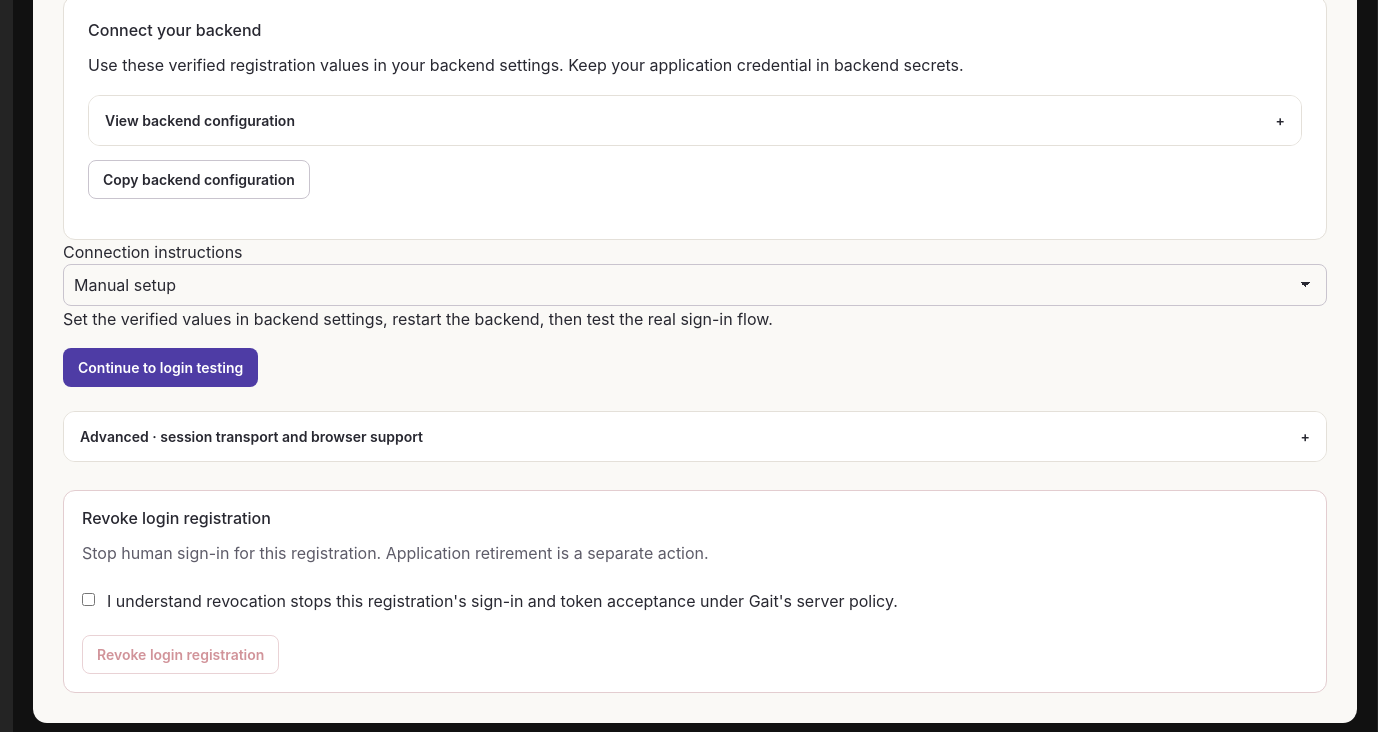
Test: clipboard failure preserves public configuration for manual copying
(page scrolled)
Step 1. Click the button "Advanced · session transport and browser support" → (252,437), box [64, 412, 1326, 461]
(page scrolled)
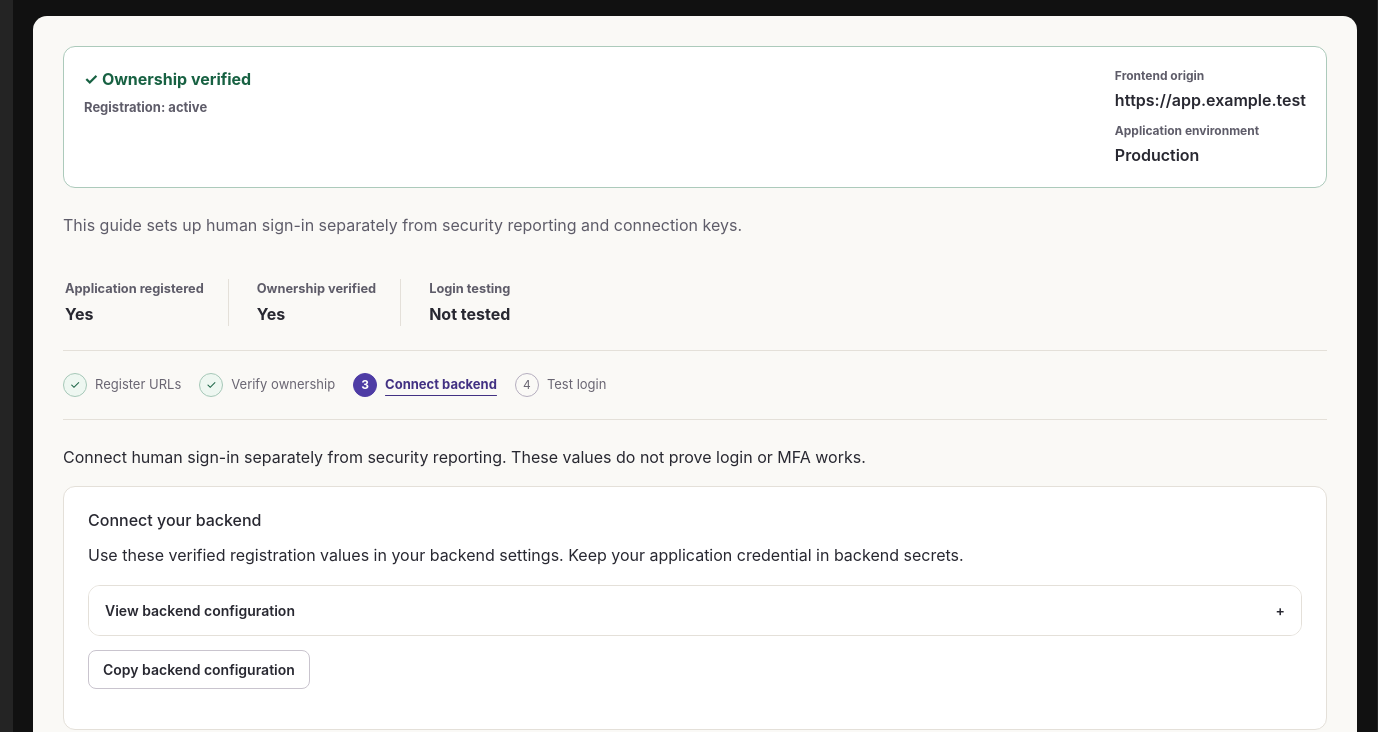
Step 2. Click the button with aria-label "1. Register URLs" → (122,385), box [63, 365, 181, 405]
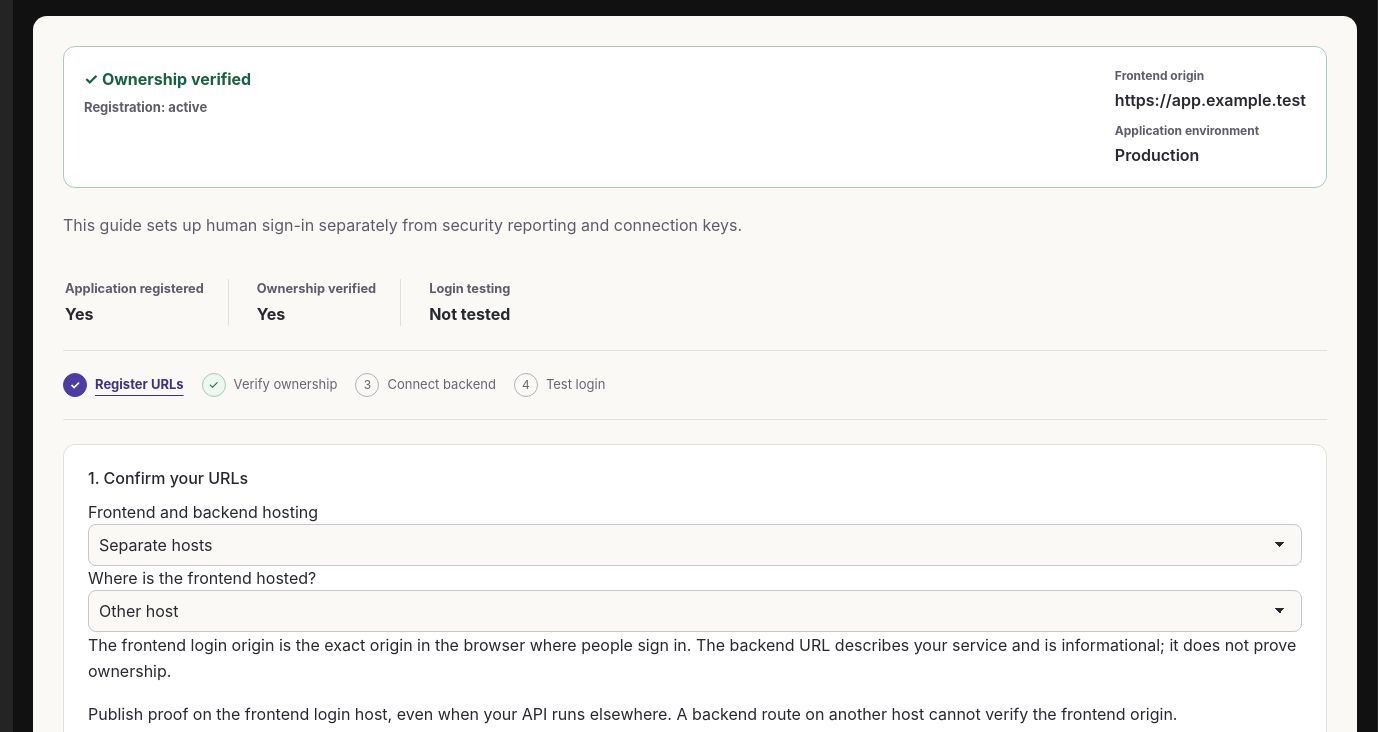
Step 3. Click the button with aria-label "3. Connect backend" → (426,385), box [355, 365, 496, 405]
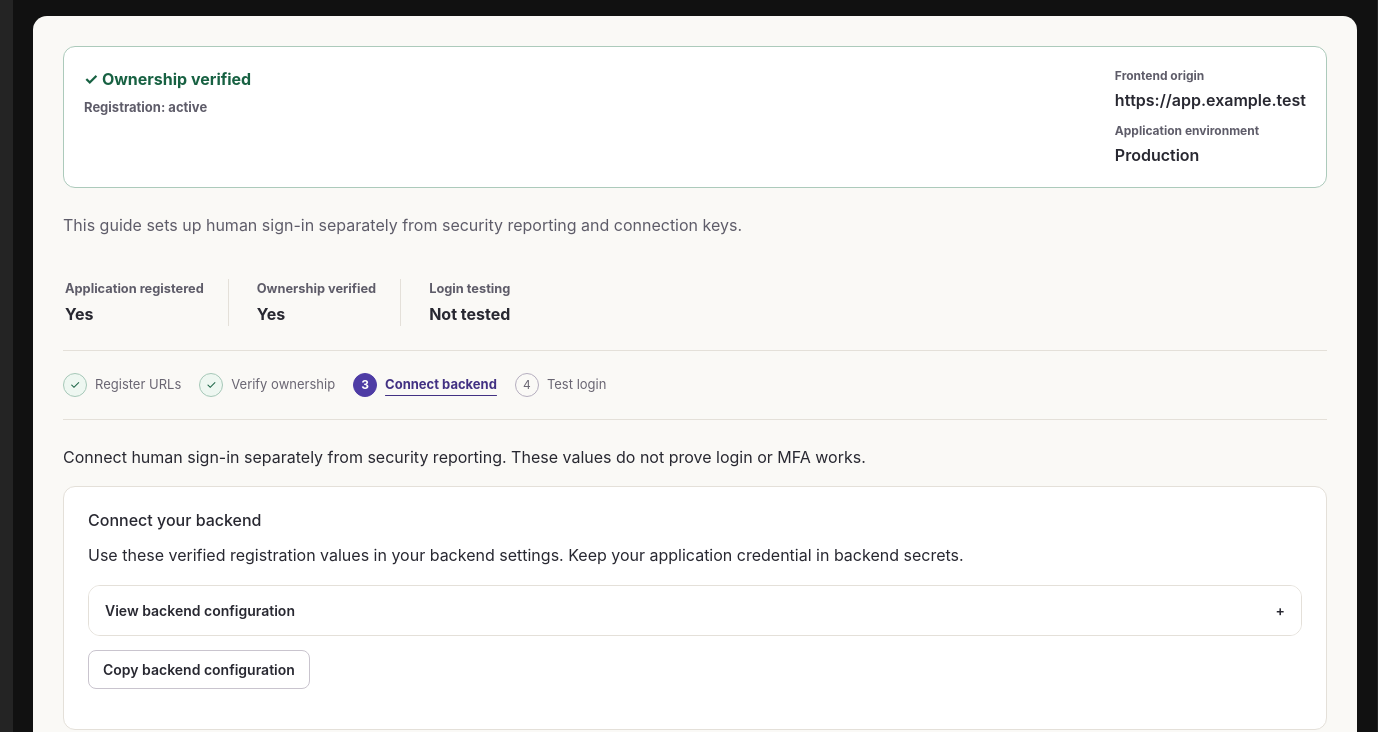
Step 4. Click the button "Copy backend configuration" → (199,669), box [88, 650, 310, 689]
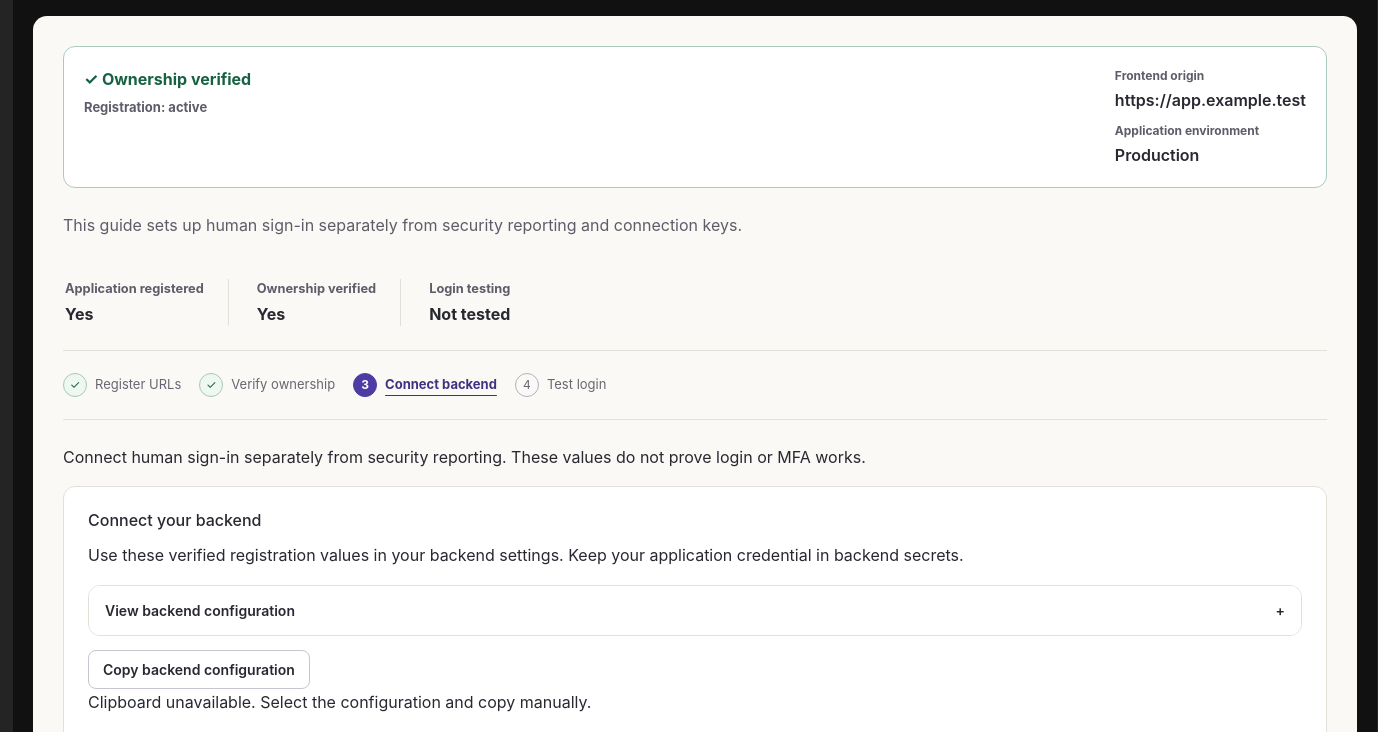
Now the text "Clipboard unavailable. Select the configuration and copy manually." is shown, box [88, 692, 591, 712]
